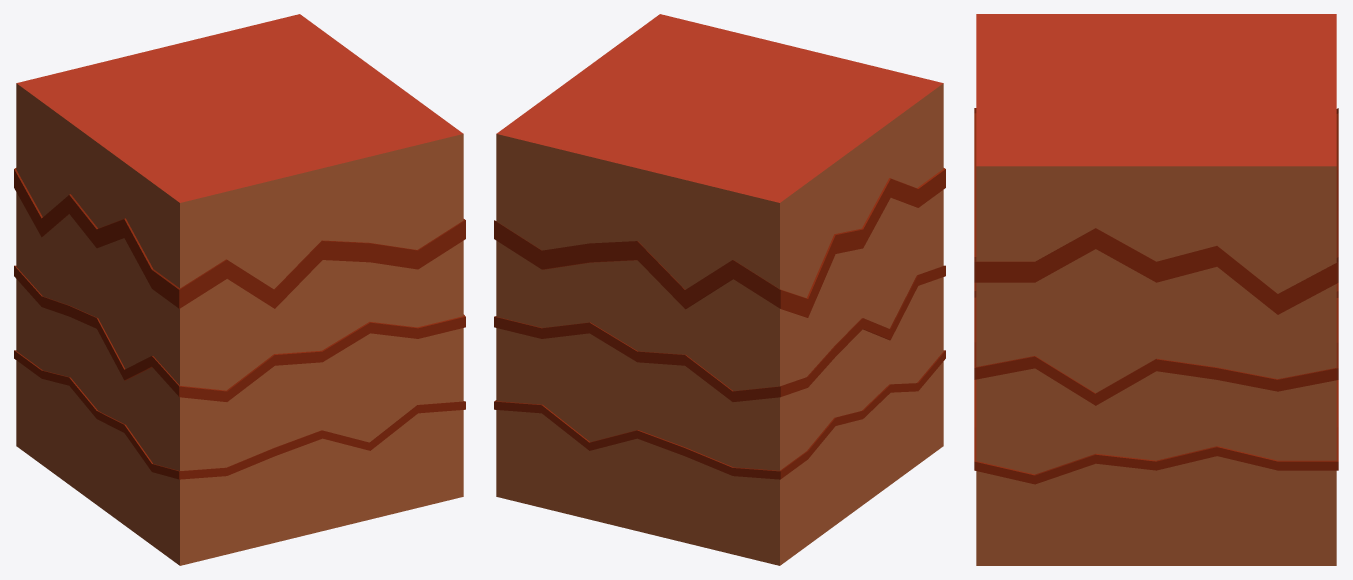
Rendered from Wall_Tile_Desert.fbx.
The picture shows the model from 3 angles, left to right: view 1: azimuth 30°, elevation 25°; view 2: azimuth 150°, elevation 25°; view 3: azimuth 270°, elevation 25°; orthographic projection. The views are drawn at different scales.
Visible parts, largest first — view 1: Wall_Tile_Desert; view 2: Wall_Tile_Desert; view 3: Wall_Tile_Desert.
Part boxes in pixels (x1=…): Wall_Tile_Desert: x1=14, y1=14, x2=465, y2=565; Wall_Tile_Desert: x1=494, y1=14, x2=945, y2=565; Wall_Tile_Desert: x1=974, y1=14, x2=1338, y2=565.
Size of the model in its own units: 2.02 by 2.02 by 2.45.
